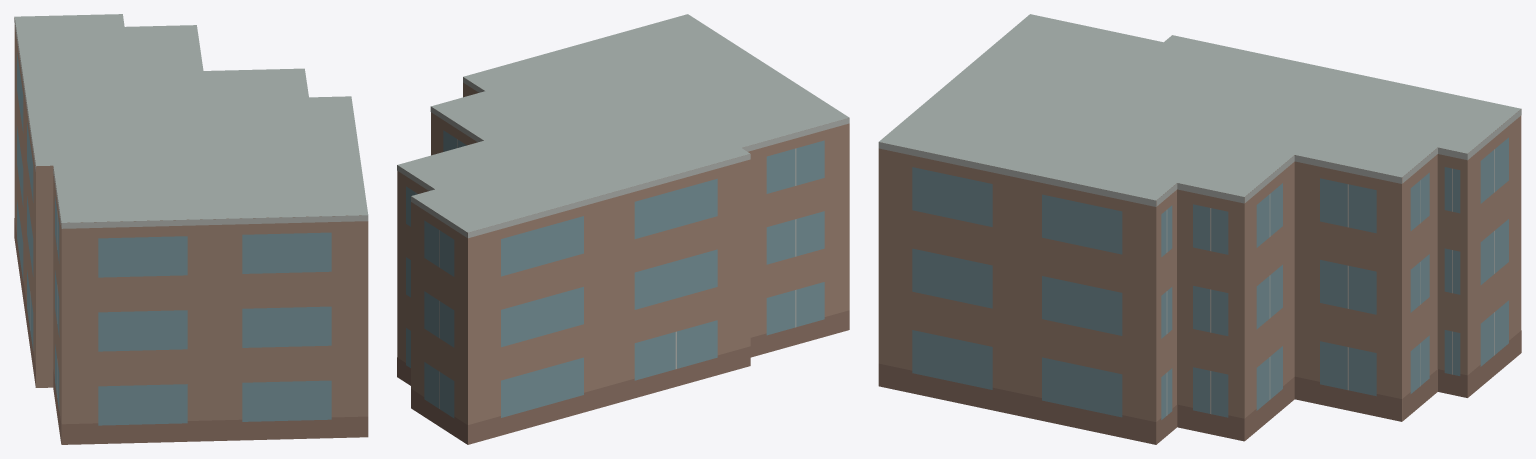
Rendered from survey-upis-32826973.glb.
3 renders of one model, left to right at view 1: azimuth 30°, elevation 25°; view 2: azimuth 150°, elevation 25°; view 3: azimuth 270°, elevation 25°, orthographic. The views are drawn at different scales.
Parts seen in each view (by area): view 1: survey-upis-32826973.tmp; view 2: survey-upis-32826973.tmp; view 3: survey-upis-32826973.tmp.
Boxes of the visible parts, bbox=[...] form: survey-upis-32826973.tmp: bbox=[14, 14, 368, 444]; survey-upis-32826973.tmp: bbox=[397, 14, 849, 444]; survey-upis-32826973.tmp: bbox=[878, 14, 1521, 444].
Size of the model in its own units: 14.99 by 9.15 by 21.82.
